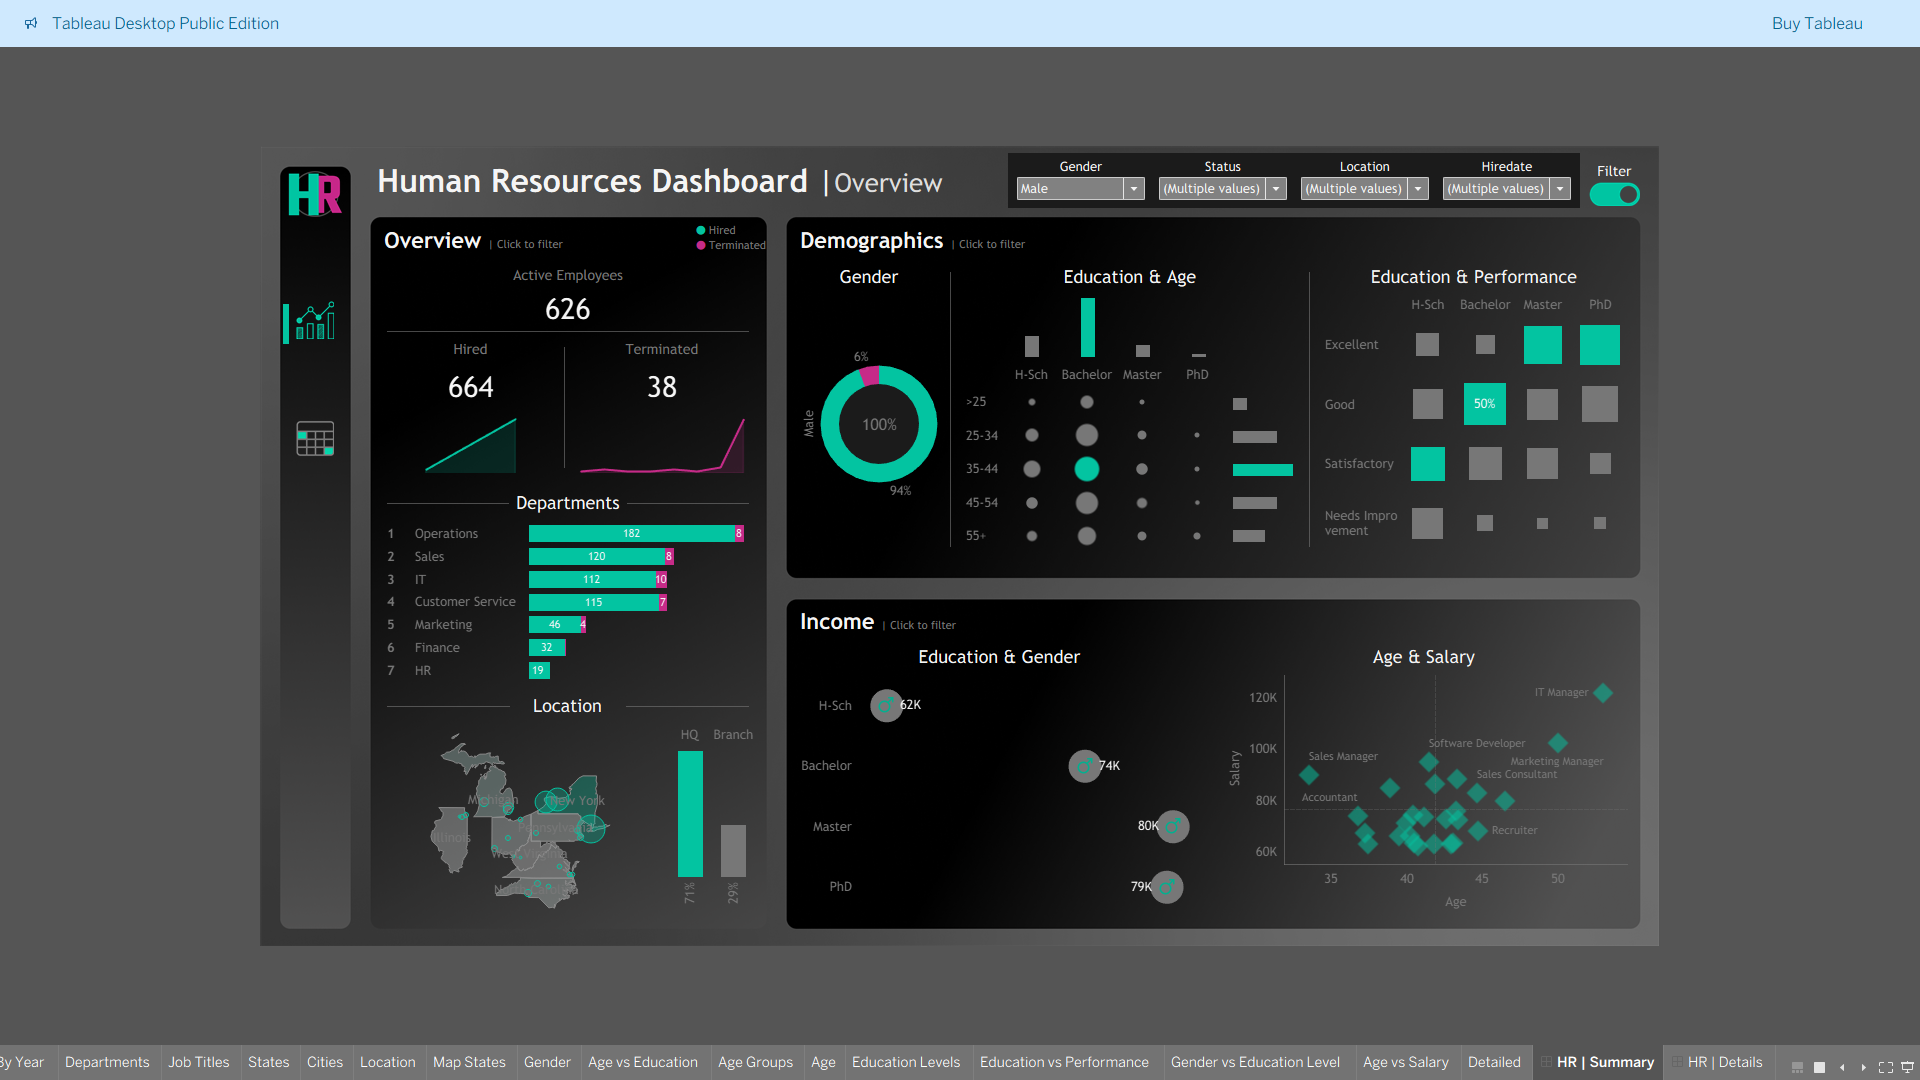

What the dashboard file says about the page in this screenshot:
{"tool":"tableau","page":{"name":"HR | Summary","canvas":[1400,800],"ordinal":0},"visuals":[{"type":"image","param":"Image/background dashbaord summary.png","box":[0,0,1400,800]},{"type":"blank","box":[90,0,1309,240]},{"type":"text","box":[110,0,687,70]},{"type":"blank","box":[797,0,583,70]},{"type":"filter","title":"Gender vs Education Level","param":"[federated.1uy6vyf0tya8w3119f4041qdymfc].[none:Gender:nk]","box":[750,9,142,51]},{"type":"filter","title":"Gender vs Education Level","param":"[federated.1uy6vyf0tya8w3119f4041qdymfc].[none:Calculation_2981664453132697602:n","box":[892,9,142,51]},{"type":"filter","title":"Gender vs Education Level","param":"[federated.1uy6vyf0tya8w3119f4041qdymfc].[none:Calculation_3363625995846344715:n","box":[1034,9,142,51]},{"type":"filter","title":"Gender vs Education Level","param":"[federated.1uy6vyf0tya8w3119f4041qdymfc].[yr:Hiredate:ok]","box":[1176,9,142,51]},{"type":"text","box":[1319,10,71,30]},{"type":"image","param":"Image/Logo.png","box":[20,20,70,55]},{"type":"dashboard-object","box":[1329,25,51,48]},{"type":"text","box":[117,77,382,34]},{"type":"text","box":[433,77,85,32]},{"type":"text","box":[533,77,840,34]},{"type":"blank","box":[30,85,50,70]},{"type":"text","box":[117,111,382,31]},{"type":"text","box":[533,116,152,29]},{"type":"blank","box":[690,116,1,295]},{"type":"text","box":[696,116,348,29]},{"type":"blank","box":[1049,116,1,295]},{"type":"text","box":[1055,116,318,29]},{"type":"worksheet","title":"BAN Active","mark":"Text","box":[117,142,382,43]},{"type":"worksheet","title":"Gender","mark":"Pie","rows":["Gender"],"cols":["Calculation_3363625995853570061","Calculation_3363625995853570061"],"box":[533,145,152,266]},{"type":"worksheet","title":"Education Levels","mark":"Bar","rows":["Calculation_3363625995831468034"],"cols":["Education Level"],"box":[696,145,348,70]},{"type":"worksheet","title":"Education vs Performance","mark":"Square","rows":["Performance Rating"],"cols":["Education Level"],"box":[1055,145,318,266]},{"type":"dashboard-object","box":[30,155,50,38]},{"type":"blank","box":[23,158,6,40]},{"type":"blank","box":[117,185,382,1]},{"type":"text","box":[117,191,187,25]},{"type":"blank","box":[304,191,1,141]},{"type":"text","box":[305,191,194,25]},{"type":"blank","box":[30,193,50,10]},{"type":"blank","box":[30,203,50,70]},{"type":"worksheet","title":"Age vs Education","mark":"Circle","rows":["Calculation_3363625995862552598"],"cols":["Education Level"],"box":[696,215,273,196]},{"type":"worksheet","title":"Age Groups","mark":"Bar","rows":["Calculation_3363625995862552598"],"cols":["Calculation_3363625995831468034"],"box":[969,215,71,196]},{"type":"worksheet","title":"BAN Hired","mark":"Text","box":[117,216,187,49]},{"type":"worksheet","title":"BAN Terminated","mark":"Text","box":[305,216,194,49]},{"type":"text","box":[90,240,1309,320]},{"type":"worksheet","title":"Hired By Year","mark":"Line","rows":["Calculation_3363625995831468034","Calculation_3363625995831468034"],"cols":["Hiredate"],"box":[117,265,187,67]},{"type":"worksheet","title":"Terminated By Year","mark":"Line","rows":["Calculation_3363625995832086533","Calculation_3363625995832086533"],"cols":["Termdate"],"box":[305,265,194,67]},{"type":"blank","box":[127,342,122,30]},{"type":"text","box":[249,342,118,30]},{"type":"blank","box":[367,342,122,30]},{"type":"worksheet","title":"Departments","mark":"Bar","rows":["Calculation_3363625995844042762","Department"],"cols":["Calculation_3363625995831468034"],"box":[117,372,382,168]},{"type":"text","box":[533,459,840,32]},{"type":"text","box":[533,496,412.5,29]},{"type":"blank","box":[950.5,496,1,279]},{"type":"text","box":[956.5,496,416.5,29]},{"type":"worksheet","title":"Gender vs Education Level","mark":"Square","rows":["Education Level"],"cols":["Salary","Salary"],"box":[533,525,412.5,250]},{"type":"worksheet","title":"Age vs Salary","mark":"Shape","rows":["Salary"],"cols":["Calculation_3363625995860541454"],"box":[956.5,525,416.5,250]},{"type":"blank","box":[127,545,123.3,30]},{"type":"text","box":[250.3,545,115.3,30]},{"type":"blank","box":[365.6,545,123.3,30]},{"type":"blank","box":[90,560,1309,240]},{"type":"worksheet","title":"Map States","mark":"Automatic","box":[117,575,287,200]},{"type":"worksheet","title":"Location","mark":"Bar","rows":["Calculation_3363625995831468034"],"cols":["Calculation_3363625995846344715","Calculation1"],"box":[404,575,95,200]}]}

Visuals, with their boxes on the page's 1400x800 design canvas (x1, y1, x2, y2). These are canvas units, not pixel positions in the 1920x1080 screenshot, which may show the page scaled, cropped or inside an application window:
image: select_region(0, 0, 1400, 800)
blank: select_region(90, 0, 1399, 240)
text: select_region(110, 0, 797, 70)
blank: select_region(797, 0, 1380, 70)
"Gender vs Education Level" filter: select_region(750, 9, 892, 60)
"Gender vs Education Level" filter: select_region(892, 9, 1034, 60)
"Gender vs Education Level" filter: select_region(1034, 9, 1176, 60)
"Gender vs Education Level" filter: select_region(1176, 9, 1318, 60)
text: select_region(1319, 10, 1390, 40)
image: select_region(20, 20, 90, 75)
dashboard-object: select_region(1329, 25, 1380, 73)
text: select_region(117, 77, 499, 111)
text: select_region(433, 77, 518, 109)
text: select_region(533, 77, 1373, 111)
blank: select_region(30, 85, 80, 155)
text: select_region(117, 111, 499, 142)
text: select_region(533, 116, 685, 145)
blank: select_region(690, 116, 691, 411)
text: select_region(696, 116, 1044, 145)
blank: select_region(1049, 116, 1050, 411)
text: select_region(1055, 116, 1373, 145)
"BAN Active" worksheet (Text marks): select_region(117, 142, 499, 185)
"Gender" worksheet (Pie marks): select_region(533, 145, 685, 411)
"Education Levels" worksheet (Bar marks): select_region(696, 145, 1044, 215)
"Education vs Performance" worksheet (Square marks): select_region(1055, 145, 1373, 411)
dashboard-object: select_region(30, 155, 80, 193)
blank: select_region(23, 158, 29, 198)
blank: select_region(117, 185, 499, 186)
text: select_region(117, 191, 304, 216)
blank: select_region(304, 191, 305, 332)
text: select_region(305, 191, 499, 216)
blank: select_region(30, 193, 80, 203)
blank: select_region(30, 203, 80, 273)
"Age vs Education" worksheet (Circle marks): select_region(696, 215, 969, 411)
"Age Groups" worksheet (Bar marks): select_region(969, 215, 1040, 411)
"BAN Hired" worksheet (Text marks): select_region(117, 216, 304, 265)
"BAN Terminated" worksheet (Text marks): select_region(305, 216, 499, 265)
text: select_region(90, 240, 1399, 560)
"Hired By Year" worksheet (Line marks): select_region(117, 265, 304, 332)
"Terminated By Year" worksheet (Line marks): select_region(305, 265, 499, 332)
blank: select_region(127, 342, 249, 372)
text: select_region(249, 342, 367, 372)
blank: select_region(367, 342, 489, 372)
"Departments" worksheet (Bar marks): select_region(117, 372, 499, 540)
text: select_region(533, 459, 1373, 491)
text: select_region(533, 496, 946, 525)
blank: select_region(950, 496, 952, 775)
text: select_region(956, 496, 1373, 525)
"Gender vs Education Level" worksheet (Square marks): select_region(533, 525, 946, 775)
"Age vs Salary" worksheet (Shape marks): select_region(956, 525, 1373, 775)
blank: select_region(127, 545, 250, 575)
text: select_region(250, 545, 366, 575)
blank: select_region(366, 545, 489, 575)
blank: select_region(90, 560, 1399, 800)
"Map States" worksheet: select_region(117, 575, 404, 775)
"Location" worksheet (Bar marks): select_region(404, 575, 499, 775)
